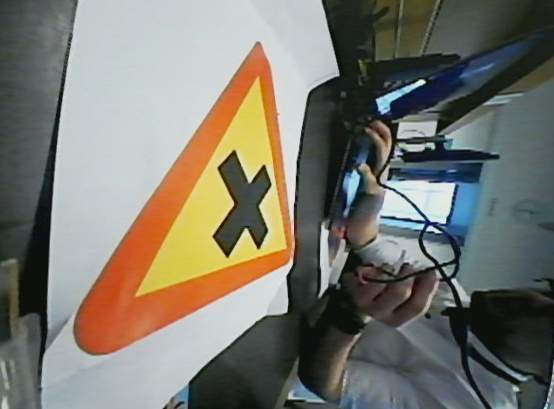junction: (66, 38, 300, 358)
